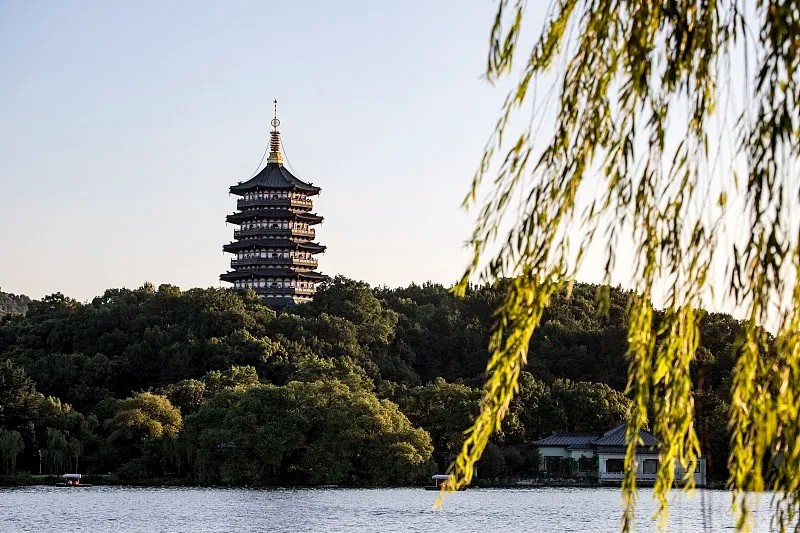Leifeng: (219, 96, 330, 309)
